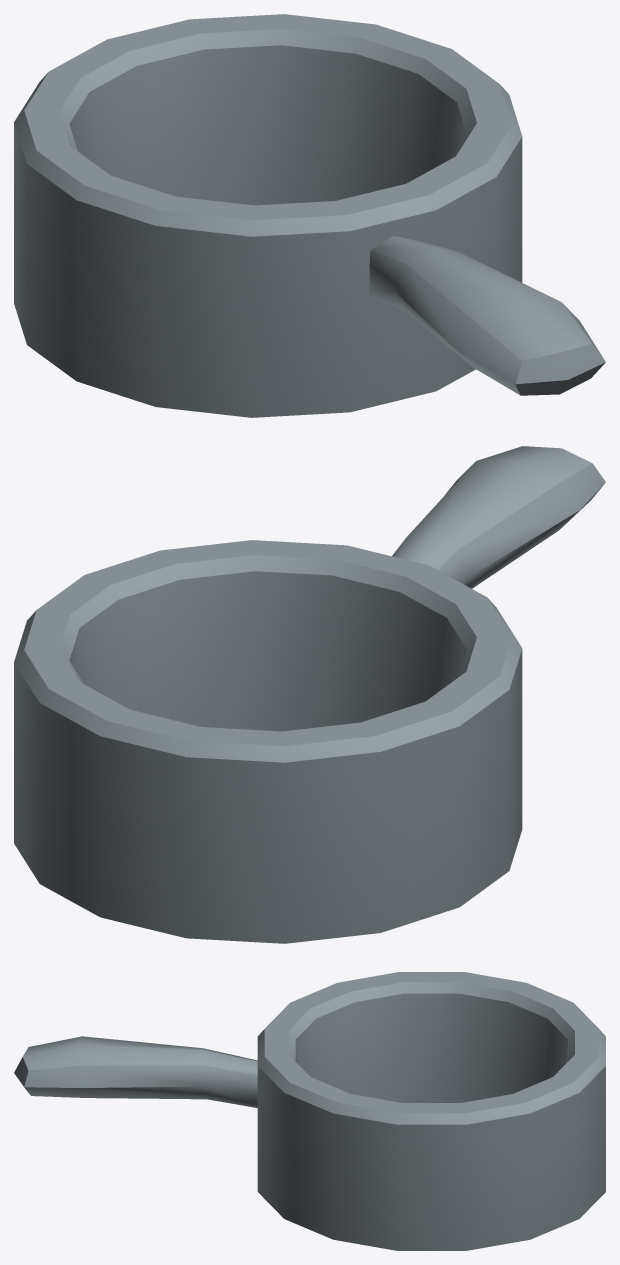
The model's file is pan_006.obj.
3 views of the same model, one above another, from view 1: azimuth 30°, elevation 25°; view 2: azimuth 150°, elevation 25°; view 3: azimuth 270°, elevation 25° (orthographic). The views are drawn at different scales.
Parts seen in each view (by area): view 1: pan.006_Cylinder.230; view 2: pan.006_Cylinder.230; view 3: pan.006_Cylinder.230.
Part boxes in pixels (x1,y1,x2,y2): pan.006_Cylinder.230: [14, 14, 605, 417]; pan.006_Cylinder.230: [14, 446, 605, 943]; pan.006_Cylinder.230: [14, 972, 605, 1250].
Bounding box in the file's own units: 0.75 × 0.35 × 1.28.
Materials: 1 (1 with a texture image).
